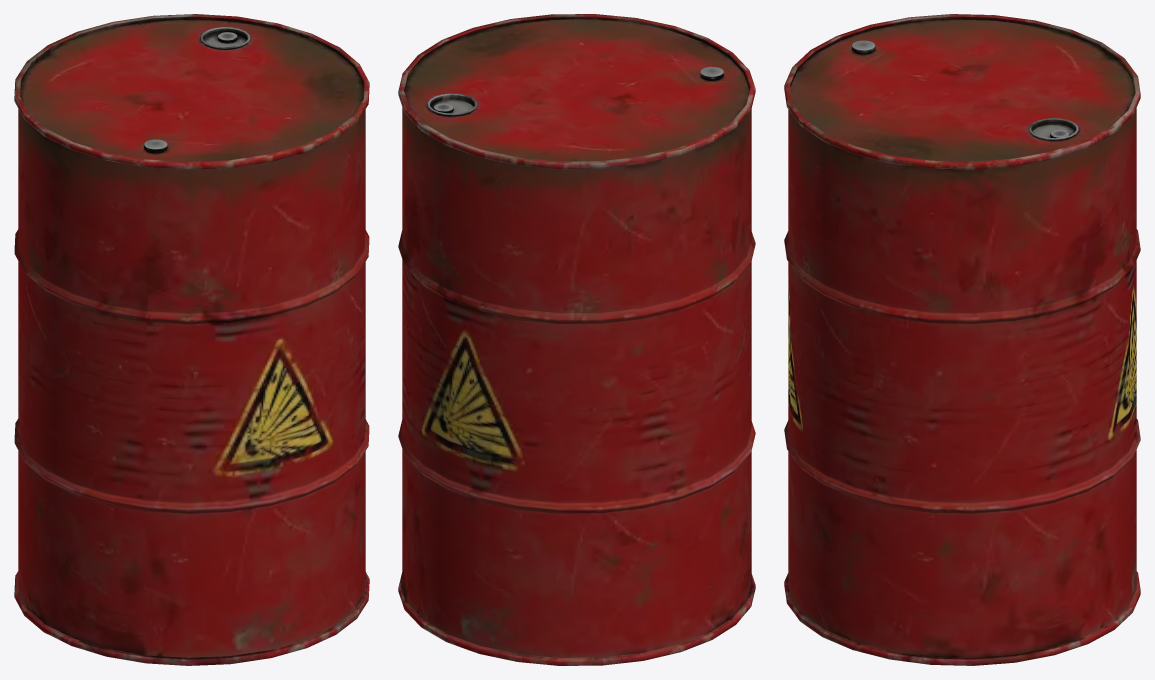
Rendered from barrel_01.glb.
3 renders of one model, left to right at view 1: azimuth 30°, elevation 25°; view 2: azimuth 150°, elevation 25°; view 3: azimuth 270°, elevation 25°, orthographic.
Visible parts, largest first — view 1: Barrel_01; view 2: Barrel_01; view 3: Barrel_01.
Boxes of the visible parts, x1,y1,x2,y2 form: Barrel_01: (14, 14, 369, 665); Barrel_01: (398, 14, 755, 665); Barrel_01: (784, 14, 1140, 665).
Bounding box in the file's own units: 0.563 × 0.88 × 0.563.
Materials: 1 (1 with a texture image).
